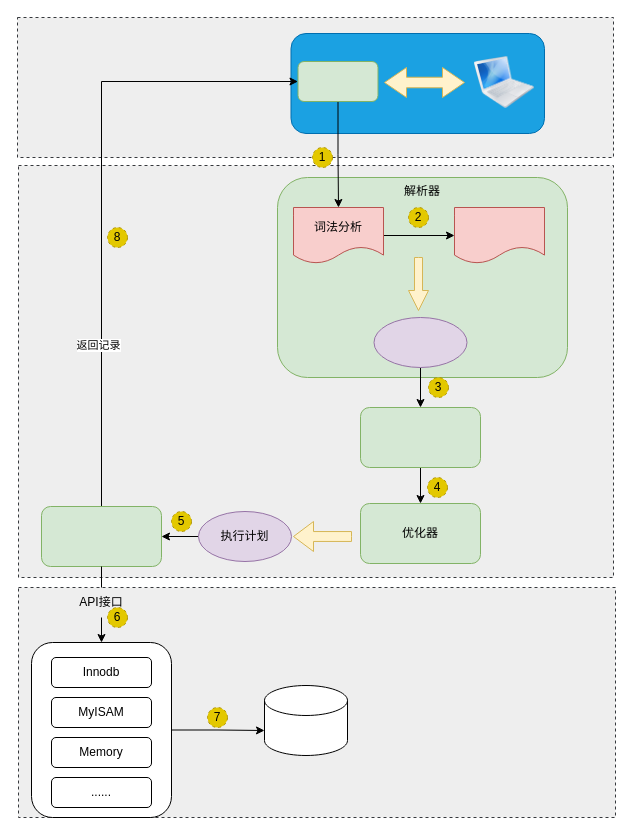
Some shapes in this 633 by 835 pixel diagram are drawn without their labels. The shapes that lost their labels are listed below. From the top down, each one's centre as x and y in pixels, then its label:
At [337,81]: "连接器".
At [424,82]: "TCP".
At [499,235]: "语法分析".
At [420,342]: "语法树".
At [420,437]: "预处理器".
At [101,536]: "执行器".
At [306,720]: "数据".
